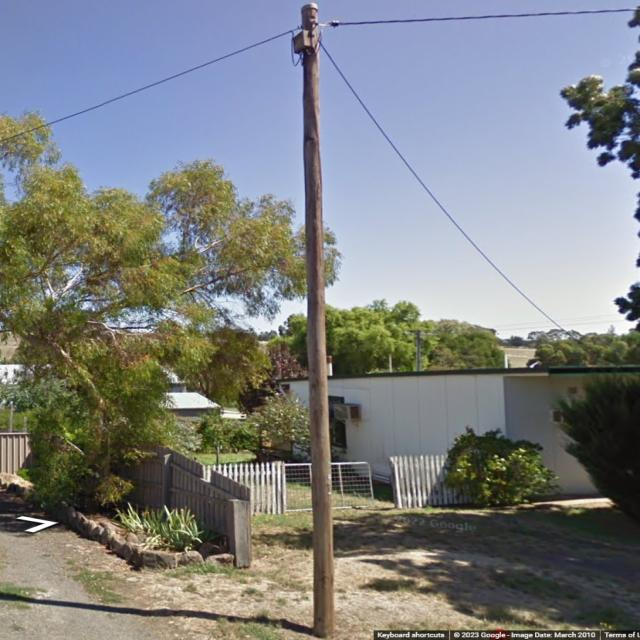timber-pole: (299, 2, 337, 639)
